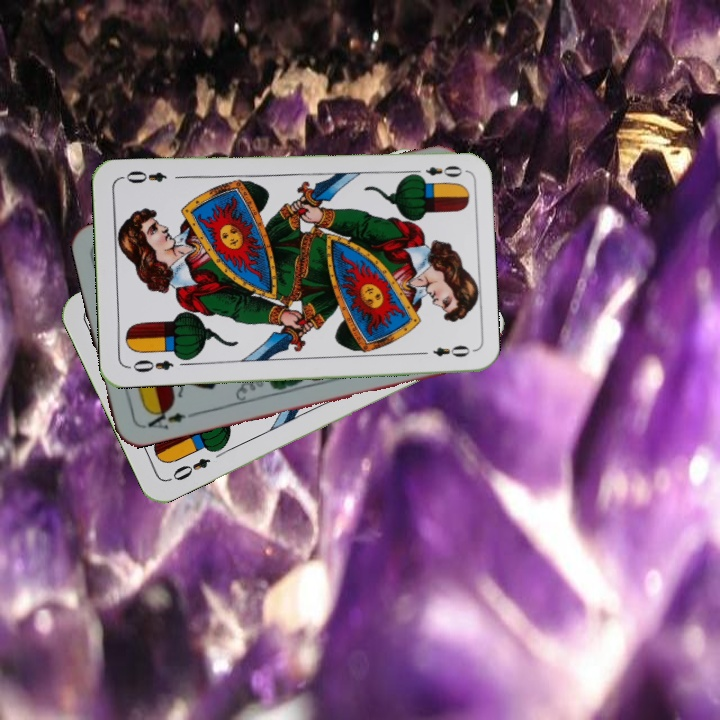EA: (138, 403, 188, 432)
EO: (164, 454, 213, 484), (407, 161, 465, 180), (124, 356, 177, 375)
